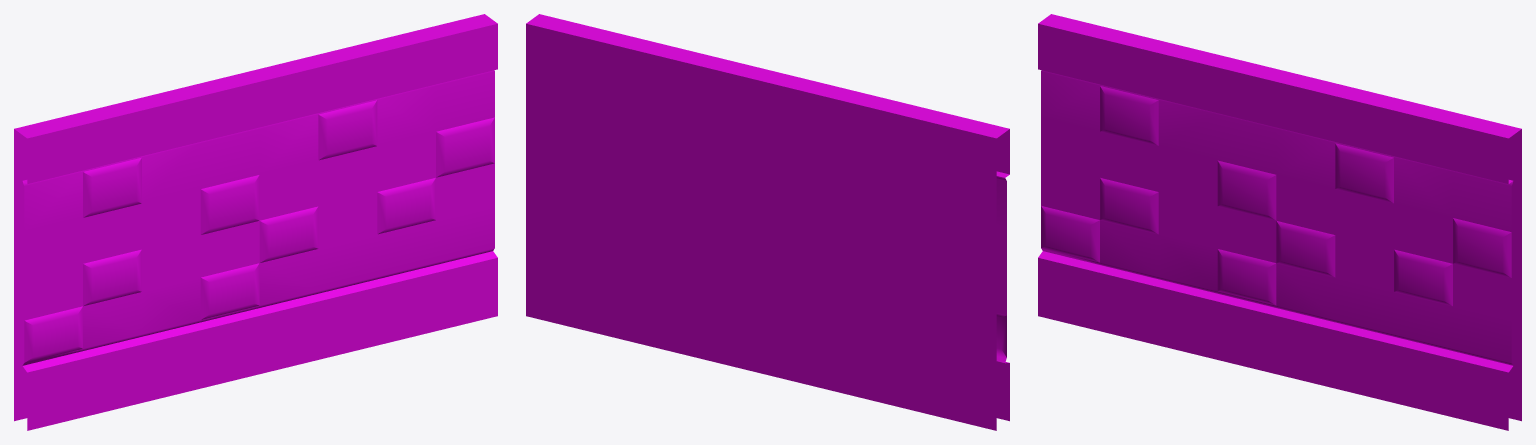
The model's file is m_dungeonwallplain.fbx.
3 renders of one model, left to right at view 1: azimuth 30°, elevation 25°; view 2: azimuth 150°, elevation 25°; view 3: azimuth 330°, elevation 25°, orthographic.
Parts seen in each view (by area): view 1: m_dungeonwallplain; view 2: m_dungeonwallplain; view 3: m_dungeonwallplain.
Part boxes in pixels (bbox=[...]): m_dungeonwallplain: bbox=[14, 14, 497, 430]; m_dungeonwallplain: bbox=[526, 14, 1009, 430]; m_dungeonwallplain: bbox=[1038, 14, 1521, 430].
Size of the model in its own units: 8 by 4.75 by 0.3894.
